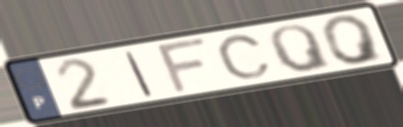2: (54, 56, 115, 112)
C: (214, 33, 274, 81)
F: (154, 35, 211, 97)
I: (122, 49, 157, 98)
Q: (318, 12, 389, 67), (266, 22, 336, 75)
